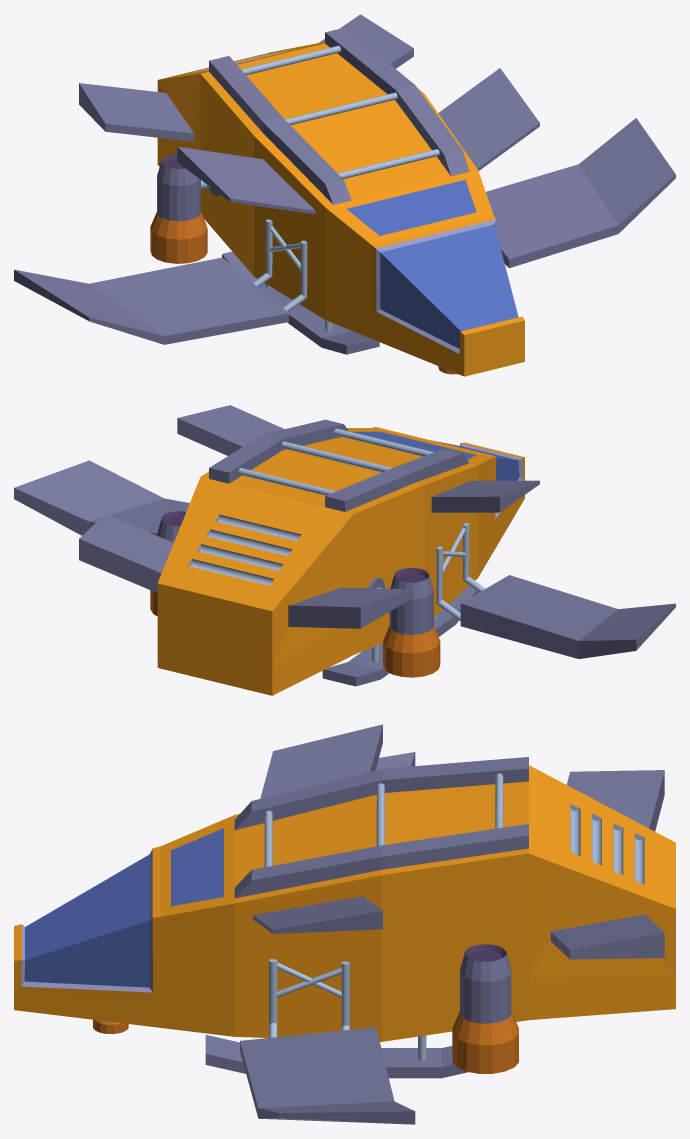
File: Nave.fbx
3 renders of one model, top to bottom at view 1: azimuth 30°, elevation 25°; view 2: azimuth 150°, elevation 25°; view 3: azimuth 270°, elevation 25°, orthographic. The views are drawn at different scales.
Parts seen in each view (by area): view 1: CuerpoNave, Ala, CristalNave, Cohete, TubosTecho, TubosAla; view 2: CuerpoNave, Ala, Cohete, TubosTecho, TubosAla, CristalNave; view 3: CuerpoNave, CristalNave, Ala, Cohete, TubosAla, TubosTecho.
Boxes of the visible parts, bbox=[...] form: CuerpoNave: bbox=[79, 14, 539, 376]; Ala: bbox=[14, 118, 675, 344]; CristalNave: bbox=[346, 180, 518, 348]; Cohete: bbox=[150, 154, 220, 263]; TubosTecho: bbox=[241, 45, 439, 178]; TubosAla: bbox=[253, 219, 307, 311]; CuerpoNave: bbox=[79, 405, 539, 695]; Ala: bbox=[14, 460, 675, 658]; Cohete: bbox=[150, 511, 440, 677]; TubosTecho: bbox=[238, 428, 433, 495]; TubosAla: bbox=[436, 523, 485, 620]; CristalNave: bbox=[351, 431, 519, 480]; CuerpoNave: bbox=[14, 724, 675, 1078]; CristalNave: bbox=[24, 828, 223, 987]; Ala: bbox=[240, 752, 415, 1124]; Cohete: bbox=[452, 944, 518, 1073]; TubosAla: bbox=[269, 959, 349, 1037]; TubosTecho: bbox=[264, 773, 503, 867].
Size of the model in its own units: 1440 by 455 by 1121.
